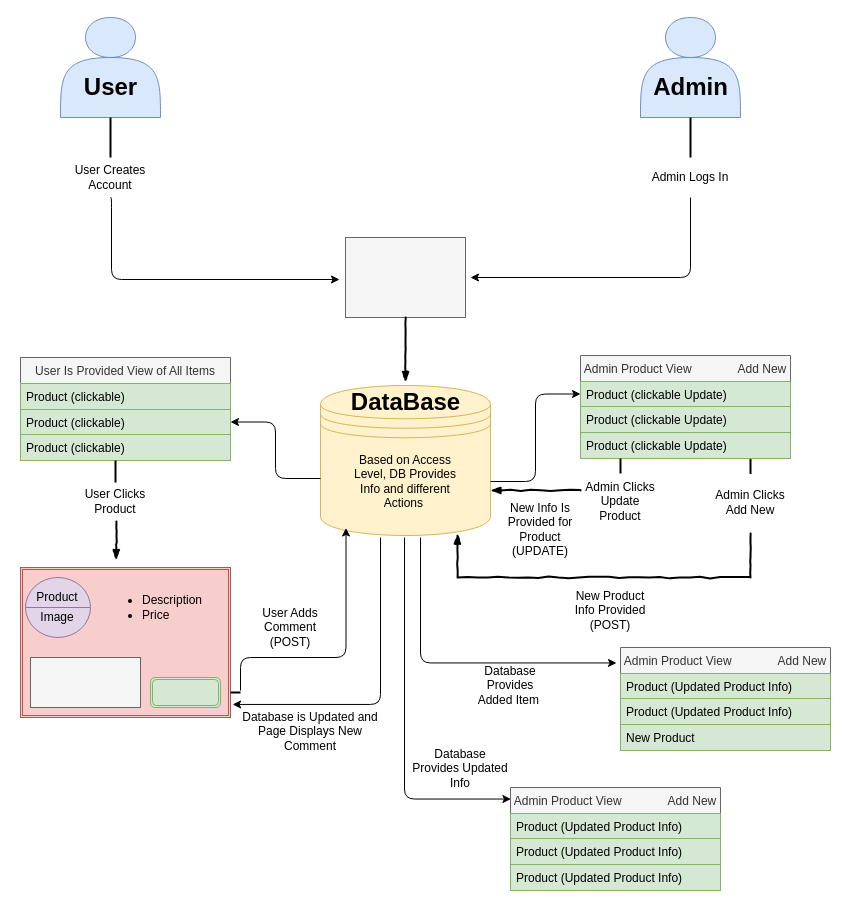
This 848x911 diagram has some shape labels left out. The shapes that lost their labels are listed below. From the top down, each one's centre as x and y in pixels, then its label:
point (405, 277): Access Is Authenticated
point (85, 682): User Comments
point (185, 692): Add Comment
